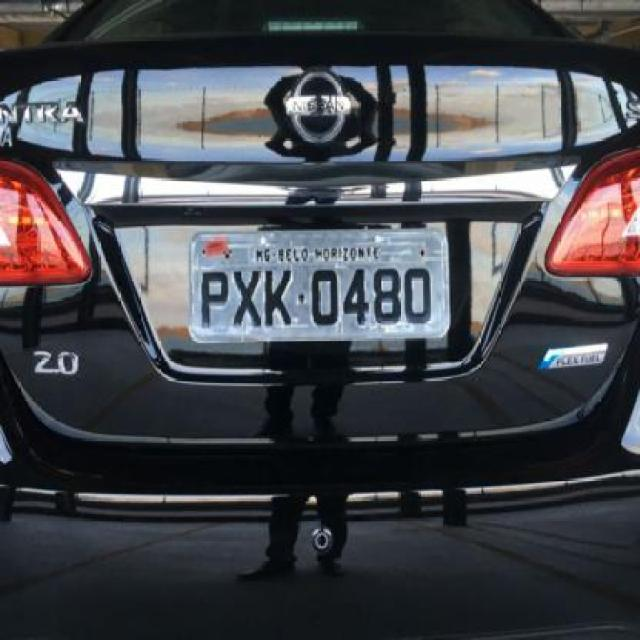old_plate: (183, 219, 455, 350)
